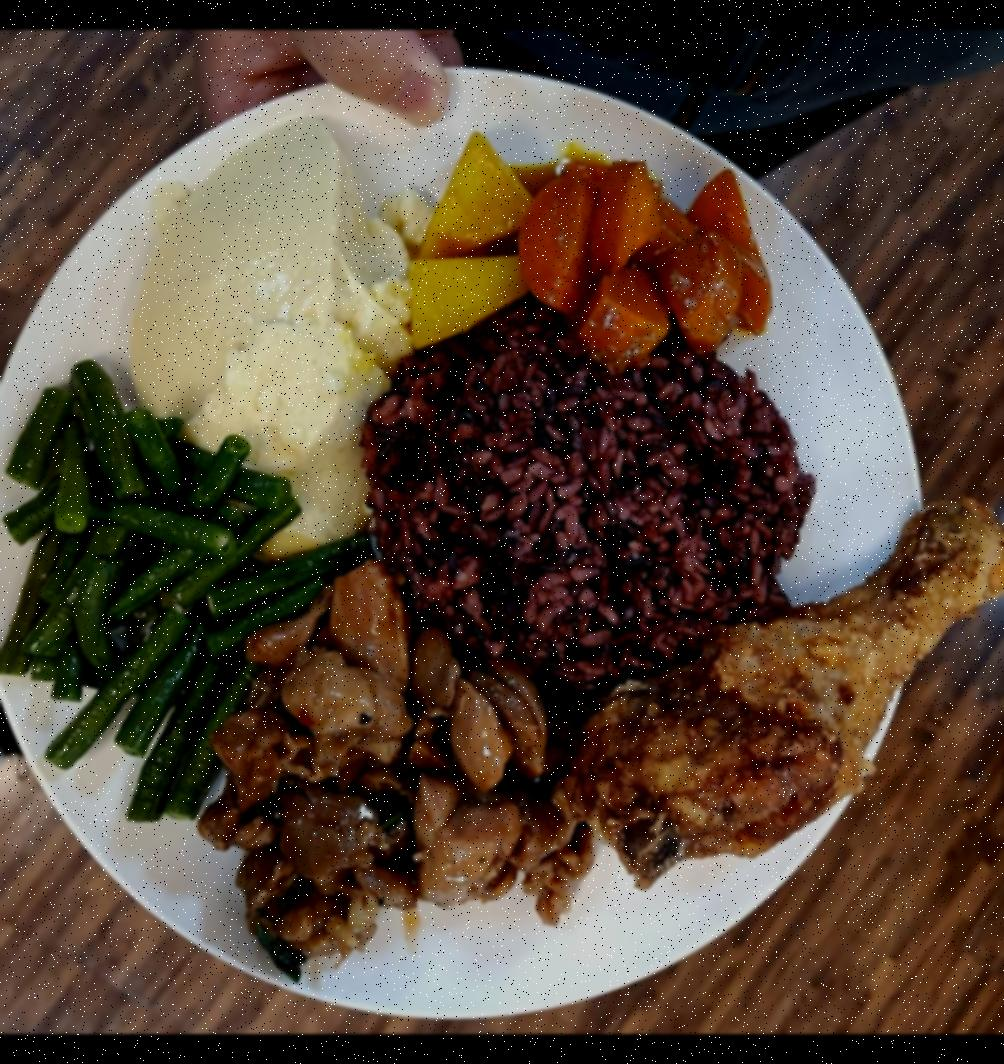plate: (0, 58, 930, 1030)
purple rice: (354, 321, 818, 684)
side dish: (6, 364, 383, 816), (123, 116, 423, 560), (402, 134, 794, 356)
small fried chicken leg: (554, 486, 1004, 894)
three cup chicken: (211, 566, 588, 973)
